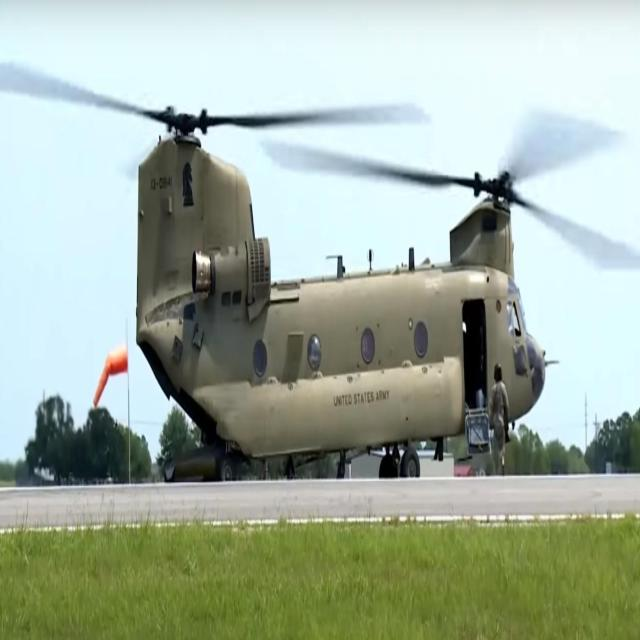Helicopter: (104, 86, 540, 481)
